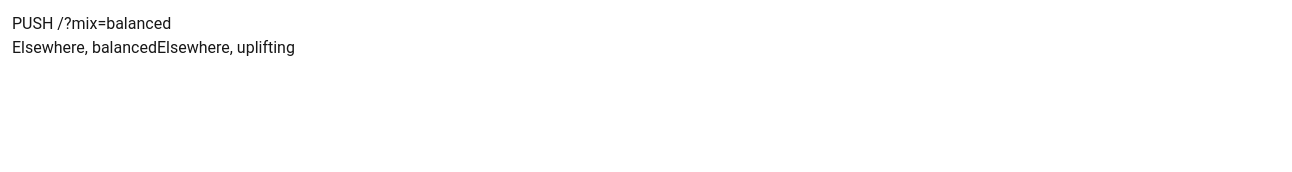
UpliftingEditionRow › starts closed when the reader comes back to the edition after leaving it with the dialog open
The width and height of the screenshot is (1292, 172).
Earlier steps of the test are not shown.
Click the link "Elsewhere, uplifting".
click(226, 48)  # box [157,38,295,57]
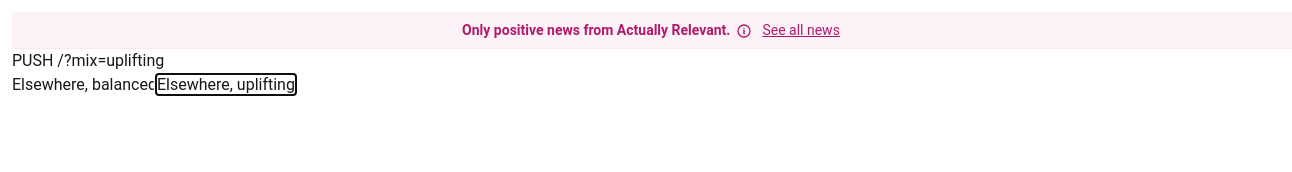
Expected: the button named "About Actually Uplifting" is shown, [732,19,756,43]
